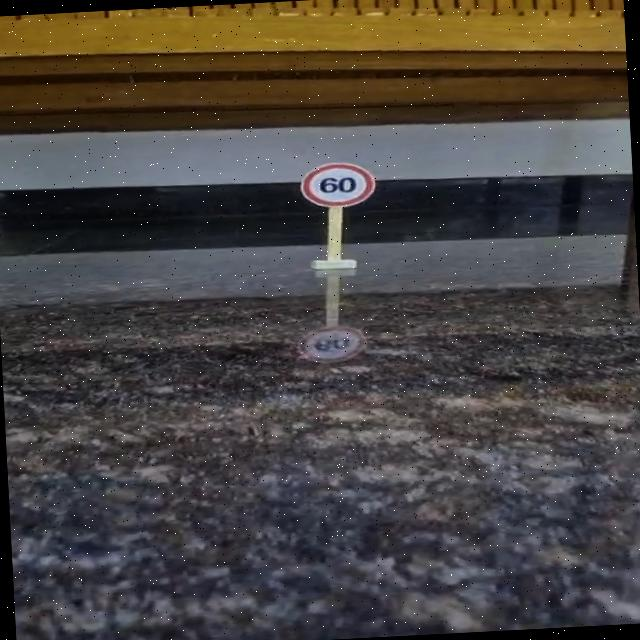Speed60: (298, 160, 379, 212)
